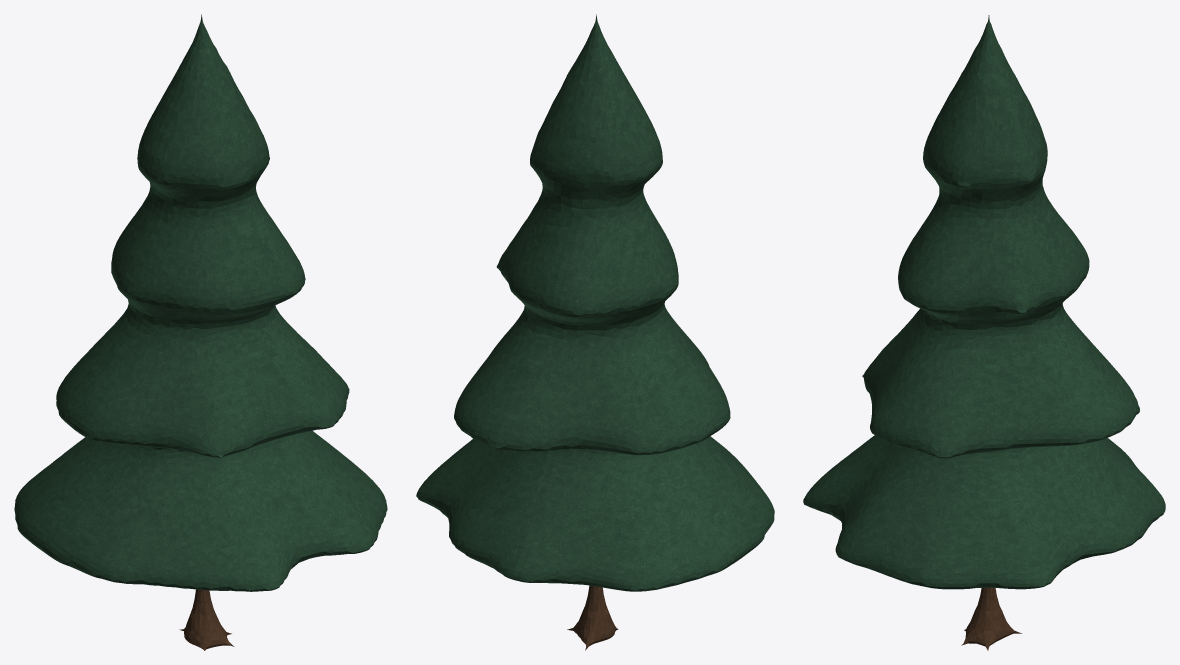
File: tree_pine_a.glb
3 views of the same model, side by side, from view 1: azimuth 30°, elevation 25°; view 2: azimuth 150°, elevation 25°; view 3: azimuth 270°, elevation 25° (orthographic).
Parts seen in each view (by area): view 1: wilds_tree_pine_a; view 2: wilds_tree_pine_a; view 3: wilds_tree_pine_a.
Part boxes in pixels (x1,y1,x2,y2): wilds_tree_pine_a: [14, 14, 387, 650]; wilds_tree_pine_a: [416, 14, 774, 650]; wilds_tree_pine_a: [803, 15, 1165, 650].
Size of the model in its own units: 2.68 by 5.11 by 2.69.
1 material, 1 textured.
